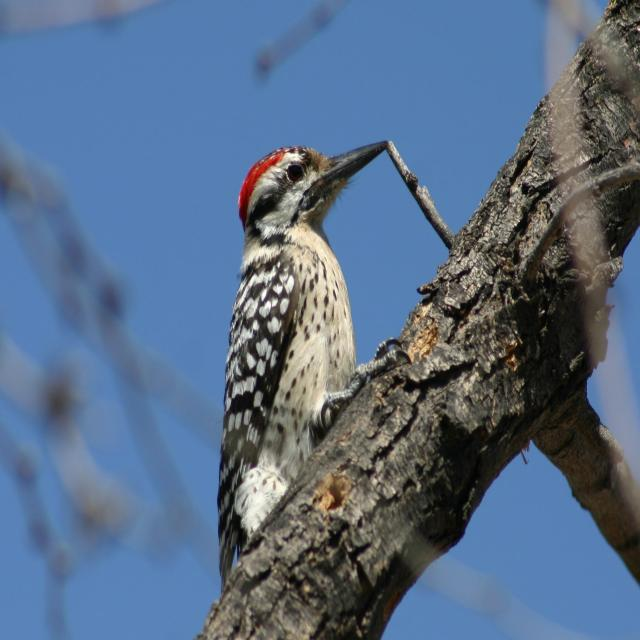Woodpecker: (210, 120, 394, 578)
